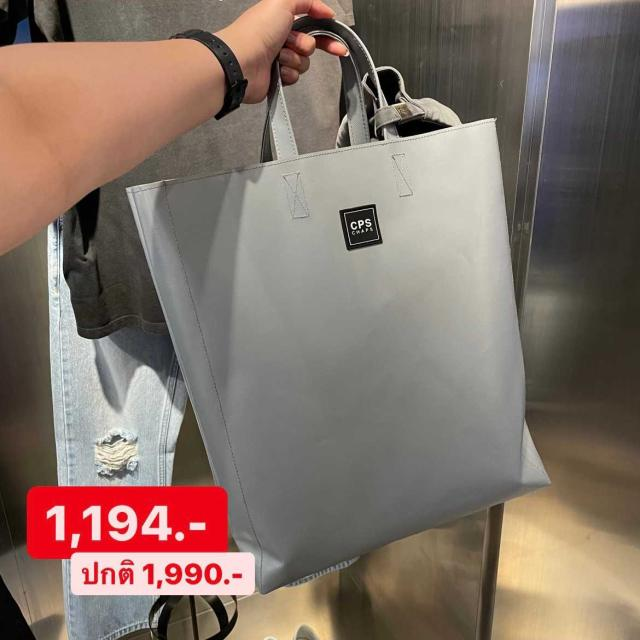Handbag: (136, 112, 523, 601)
